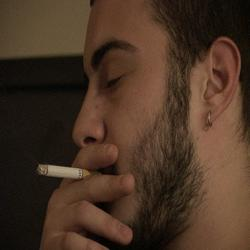smoking: (31, 144, 137, 249)
